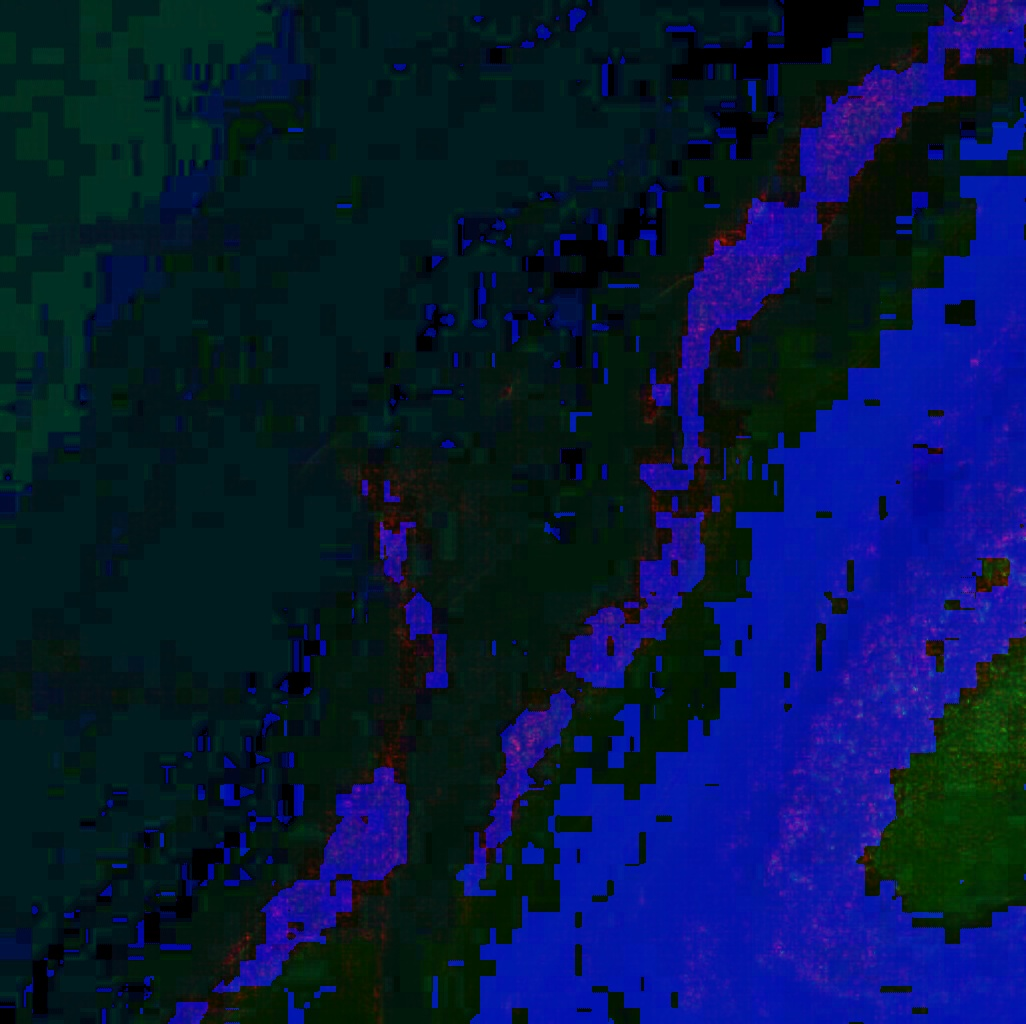rip_current: (317, 484, 598, 817)
